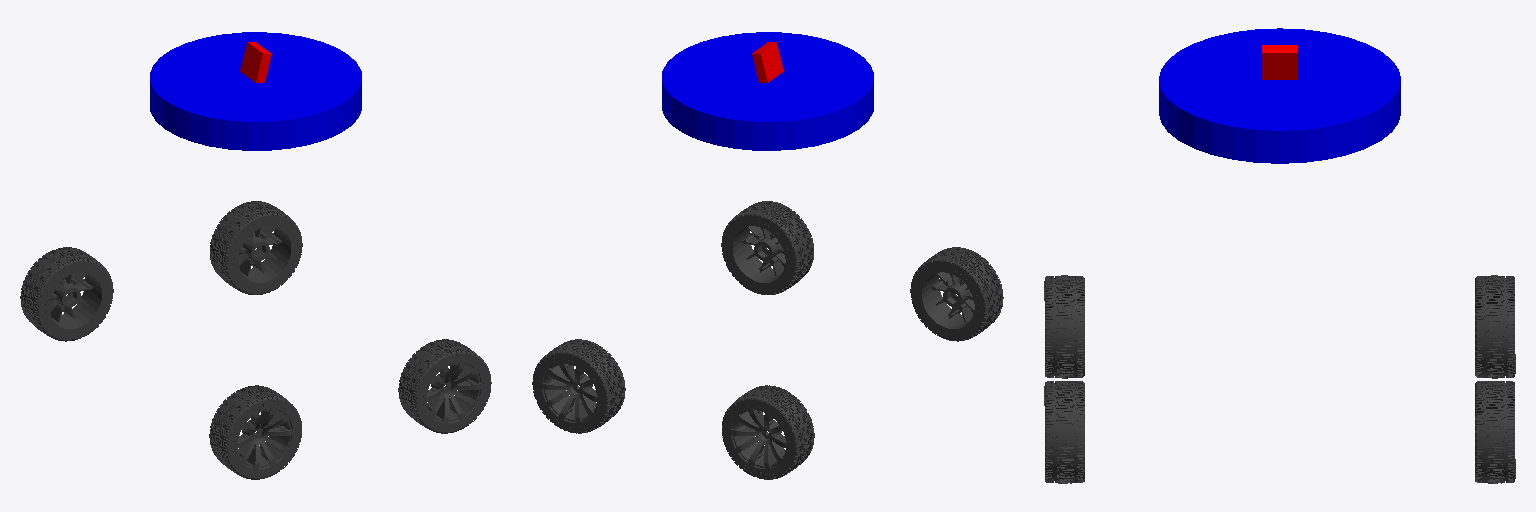
robot.urdf — pea_car:
<?xml version="1.0" encoding="utf-8"?>
<!-- This URDF was automatically created by SolidWorks to URDF Exporter! Originally created by [author] ([email redacted]) 
     Commit Version: 1.6.0-4-g7f85cfe  Build Version: 1.6.7995.38578
     For more information, please see http://wiki.ros.org/sw_urdf_exporter -->
<robot
  name="pea_car">
  
  <link name="base_footprint" />

  <link
    name="base_link">
    <inertial>
      <origin
        xyz="-0.00850900217466083 0.0141836619171774 -0.32641888833315"
        rpy="0 0 0" />
      <mass
        value="5.63759480853829" />
      <inertia
        ixx="0.00980887158915243"
        ixy="1.94119169503838E-05"
        ixz="0.000103361831282563"
        iyy="0.0217612218712177"
        iyz="0.000655342254090576"
        izz="0.0151940782982274" />
    </inertial>
    <visual>
      <origin
        xyz="0.01837 -0.4335 0.11452404"  
        rpy="0 0 0" />
      <geometry>
        <mesh
          filename="package://pea_car/meshes/base_link.STL" />
      </geometry>
      <material
        name="">
        <color
          rgba="0.752941176470588 0.752941176470588 0.752941176470588 1" />
      </material>
    </visual>
    <collision>
      <origin
        xyz="0.01837 -0.4335 0.11452404"
        rpy="0 0 0" />
      <geometry>
        <mesh
          filename="package://pea_car/meshes/base_link.STL" />
      </geometry>
    </collision>
  </link>
  <joint name="base_to_footprint" type="fixed">
    <parent link="base_footprint" />
    <child link="base_link" />
    <origin xyz="0 0 0" rpy="0 0 1.5708" />
  </joint>

  <link
    name="right1">
    <inertial>
      <origin
        xyz="4.38047024209354E-08 -0.000913846429348358 8.77279937688824E-06"
        rpy="0 0 0" />
      <mass
        value="0.0552841156378314" />
      <inertia
        ixx="3.71609617131184E-05"
        ixy="3.41059462062768E-11"
        ixz="-2.84685547633311E-11"
        iyy="6.18003473830655E-05"
        iyz="7.33619676437955E-09"
        izz="3.71463189873431E-05" />
    </inertial>
    <visual>
      <origin
        xyz="0 0 0"
        rpy="0 0 0" />
      <geometry>
        <mesh
          filename="package://pea_car/meshes/right1.STL" />
      </geometry>
      <material
        name="">
        <color
          rgba="0.298039215686275 0.298039215686275 0.298039215686275 1" />
      </material>
    </visual>
    <collision>
      <origin
        xyz="0 0 0"
        rpy="0 0 0" />
      <geometry>
        <mesh
          filename="package://pea_car/meshes/right1.STL" />
      </geometry>
    </collision>
    <gazebo>
        <material>Gazebo/Black</material>
        <mu>1.0</mu>       <!-- 横向摩擦系数 -->
        <mu2>1.0</mu2>     <!-- 纵向摩擦系数 -->
    </gazebo>
  </link>
  <joint
    name="base_r_wheel_joint"
    type="continuous">
    <origin
      xyz="-0.1774 0.10254 0.0421844"
      rpy="0 0.0029193 -1.5708" />
    <parent
      link="base_link" />
    <child
      link="right1" />
    <axis
      xyz="0 1 0" />
  </joint>
  <link
    name="right2">
    <inertial>
      <origin
        xyz="4.20321930039158E-08 -0.000913847481226499 8.77378064739753E-06"
        rpy="0 0 0" />
      <mass
        value="0.0552841192285863" />
      <inertia
        ixx="3.71609621815472E-05"
        ixy="3.30508816797067E-11"
        ixz="-2.74714526173878E-11"
        iyy="6.18003486545583E-05"
        iyz="7.33680540240222E-09"
        izz="3.71463210239034E-05" />
    </inertial>
    <visual>
      <origin
        xyz="0 0 0"
        rpy="0 0 0" />
      <geometry>
        <mesh
          filename="package://pea_car/meshes/right2.STL" />
      </geometry>
      <material
        name="">
        <color
          rgba="0.298039215686275 0.298039215686275 0.298039215686275 1" />
      </material>
    </visual>
    <collision>
      <origin
        xyz="0 0 0"
        rpy="0 0 0" />
      <geometry>
        <mesh
          filename="package://pea_car/meshes/right2.STL" />
      </geometry>
    </collision>
    <gazebo>
        <material>Gazebo/Black</material>
        <mu>1.0</mu>       <!-- 横向摩擦系数 -->
        <mu2>1.0</mu2>     <!-- 纵向摩擦系数 -->
        <kp>1000000.0</kp>
        <kd>100.0</kd>
        <minDepth>0.001</minDepth>
        <maxVel>1.0</maxVel>
    </gazebo>
  </link>
  <joint
    name="base_r_wheel_joint2"
    type="continuous">
    <origin
      xyz="-0.1774 -0.10246 0.0421844"
      rpy="0 0.0029193 -1.5708" />
    <parent
      link="base_link" />
    <child
      link="right2" />
    <axis
      xyz="0 1 0" />
  </joint>
  <link
    name="left1">
    <inertial>
      <origin
        xyz="4.30237453441507E-08 -0.000913847256190536 8.77025464920966E-06"
        rpy="0 0 0" />
      <mass
        value="0.0552841195828146" />
      <inertia
        ixx="3.71609606212003E-05"
        ixy="3.35662443428845E-11"
        ixz="-2.76283878029763E-11"
        iyy="6.18003489697355E-05"
        iyz="7.3346364056894E-09"
        izz="3.71463229548982E-05" />
    </inertial>
    <visual>
      <origin
        xyz="0 0 0"
        rpy="0 0 0" />
      <geometry>
        <mesh
          filename="package://pea_car/meshes/left1.STL" />
      </geometry>
      <material
        name="">
        <color
          rgba="0.298039215686275 0.298039215686275 0.298039215686275 1" />
      </material>
    </visual>
    <collision>
      <origin
        xyz="0 0 0"
        rpy="0 0 0" />
      <geometry>
        <mesh
          filename="package://pea_car/meshes/left1.STL" />
      </geometry>
    </collision>
    <gazebo>
        <material>Gazebo/Black</material>
        <mu>1.0</mu>       <!-- 横向摩擦系数 -->
        <mu2>1.0</mu2>     <!-- 纵向摩擦系数 -->
    </gazebo>
  </link>
  <joint
    name="base_l_wheel_joint"
    type="continuous">
    <origin
      xyz="0.17741 0.10254 0.0421844"
      rpy="-3.1416 -0.0029193 -1.5708" />
    <parent
      link="base_link" />
    <child
      link="left1" />
    <axis
      xyz="0 -1 0" />
  </joint>
  <link
    name="left2">
    <inertial>
      <origin
        xyz="4.19530674089508E-08 -0.000913847384547473 8.77307510695202E-06"
        rpy="0 0 0" />
      <mass
        value="0.0552841198251379" />
      <inertia
        ixx="3.71609623141704E-05"
        ixy="3.29715687959072E-11"
        ixz="-2.88139956947963E-11"
        iyy="6.18003492681589E-05"
        iyz="7.33619775085748E-09"
        izz="3.71463216046317E-05" />
    </inertial>
    <visual>
      <origin
        xyz="0 0 0"
        rpy="0 0 0" />
      <geometry>
        <mesh
          filename="package://pea_car/meshes/left2.STL" />
      </geometry>
      <material
        name="">
        <color
          rgba="0.298039215686275 0.298039215686275 0.298039215686275 1" />
      </material>
    </visual>
    <collision>
      <origin
        xyz="0 0 0"
        rpy="0 0 0" />
      <geometry>
        <mesh
          filename="package://pea_car/meshes/left2.STL" />
      </geometry>
    </collision>
    <gazebo>
        <material>Gazebo/Black</material>
        <mu>1.0</mu>       <!-- 横向摩擦系数 -->
        <mu2>1.0</mu2>     <!-- 纵向摩擦系数 -->
        <kp>1000000.0</kp>
        <kd>100.0</kd>
        <minDepth>0.001</minDepth>
        <maxVel>1.0</maxVel>
    </gazebo>
  </link>
  <joint
    name="base_l_wheel_joint2"
    type="continuous">
    <origin
      xyz="0.17741 -0.10246 0.0421844"
      rpy="-3.1416 -0.0029193 -1.5708" />
    <parent
      link="base_link" />
    <child
      link="left2" />
    <axis
      xyz="0 1 0" />
  </joint>
    <gazebo>
        <plugin name="diff_drive_controller" filename="libgazebo_ros_diff_drive.so">
            <rosDebugLevel>Debug</rosDebugLevel>
            <publishWheelTF>true</publishWheelTF>
            <robotNamespace>/</robotNamespace>
            <publishTf>1</publishTf>
            <publishWheelJointState>true</publishWheelJointState>
            <alwaysOn>true</alwaysOn>
            <updateRate>100.0</updateRate>
            <legacyMode>true</legacyMode>
            <leftJoint>base_l_wheel_joint</leftJoint> <!-- 左轮 -->
            <rightJoint>base_r_wheel_joint</rightJoint> <!-- 右轮 -->
            <wheelSeparation>0.357</wheelSeparation> <!-- 车轮间距 -->
            <wheelDiameter>0.085</wheelDiameter> <!-- 车轮直径 -->
            <broadcastTF>1</broadcastTF>
            <wheelTorque>30</wheelTorque>
            <wheelAcceleration>1.8</wheelAcceleration>
            <commandTopic>cmd_vel</commandTopic> <!-- 运动控制话题 -->
            <odometryFrame>odom</odometryFrame> 
            <odometryTopic>odom</odometryTopic> <!-- 里程计话题 -->
            <robotBaseFrame>base_footprint</robotBaseFrame> <!-- 根坐标系 -->
            <odometrySource>1</odometrySource>
            <publishOdomTF>true</publishOdomTF>
        </plugin>
    </gazebo>
    
   <link name="laser">
        <visual>
            <geometry>
                <cylinder radius="0.1" length="0.03" />
            </geometry>
            <material name="blue">
                <color rgba="0 0 1 1" />
            </material>
        </visual>
    </link>

    <!-- 连接雷达与基链接 -->
    <joint name="laser_joint" type="fixed">
        <parent link="base_link" />
        <child link="laser" />
        <origin xyz="0 0 0.3" rpy="0 0 0" /> <!-- 设置相对于基链接的位置 -->
    </joint>

    <gazebo reference="laser">
        <sensor type="ray" name="rplidar">
            <pose>0 0 0</pose> <!-- 雷达相对于雷达链接的位置 -->
            <visualize>true</visualize>
            <update_rate>5.5</update_rate>
            <ray>
                <scan>
                    <horizontal>
                        <samples>360</samples>
                        <resolution>1</resolution>
                        <min_angle>-3.14159</min_angle>
                        <max_angle>3.14159</max_angle>
                    </horizontal>
                </scan>
                <range>
                    <min>0.10</min>
                    <max>30.0</max>
                    <resolution>0.01</resolution>
                </range>
                <noise>
                    <type>gaussian</type>
                    <mean>0.0</mean>
                    <stddev>0.01</stddev>
                </noise>
            </ray>
            <plugin name="gazebo_rplidar" filename="libgazebo_ros_laser.so">
                <topicName>/scan</topicName>
                <frameName>laser</frameName> <!-- 确保这个名称与TF树中的名称一致 -->
            </plugin>
        </sensor>
    </gazebo>
          <!-- 相机链接 -->
  <link name="camera">
    <visual>
        <geometry>
            <box size="0.01 0.03 0.03" /> <!-- 你可以根据需要调整相机的尺寸 -->
        </geometry>
        <material name="red">
            <color rgba="1 0 0 1" /> <!-- 设置相机颜色为红色 -->
        </material>
    </visual>
  </link>
  <!-- 连接相机与雷达 -->
  <joint name="camera_joint" type="fixed">
    <parent link="laser" />
    <child link="camera" />
    <origin xyz="0 0 0.03" rpy="0 0.2618 -1.5708" /> <!-- 设置相对于雷达的位置 -->
  </joint>
  <!-- Gazebo相机传感器配置 -->
  <gazebo reference="camera">
    <sensor type="camera" name="camera_sensor">
        <camera>
            <horizontal_fov>1.57</horizontal_fov> <!-- 水平视场 -->
            <image>
                <width>640</width> <!-- 图像宽度 -->
                <height>480</height> <!-- 图像高度 -->
                <format>R8G8B8</format> <!-- 图像格式 -->
            </image>
            <clip>
                <near>0.1</near> <!-- 近裁剪面 -->
                <far>100.0</far> <!-- 远裁剪面 -->
            </clip>
        </camera>
        <plugin name="camera_plugin" filename="libgazebo_ros_camera.so">
            <topicName>/camera/image_raw</topicName> <!-- 相机图像话题 -->
            <frameName>camera</frameName> <!-- 确保这个名称与TF树中的名称一致 -->
        </plugin>
    </sensor>
  </gazebo>
</robot>

--- Facts derived from the render (not from the file) ---
3 views of the same robot in one strip: view 1: azimuth 30°, elevation 25°; view 2: azimuth 150°, elevation 25°; view 3: azimuth 270°, elevation 25° (orthographic).
Model pea_car with 8 links and 7 joints (4 continuous, 3 fixed), rooted at base_footprint, posed all joints at 0.
Visible links, largest first — view 1: laser, right2, left1, right1, left2, camera; view 2: laser, left2, left1, right1, right2, camera; view 3: laser, left1, right1, right2, left2, camera.
Boxes of the visible links, x1=… form: laser: x1=150, y1=32, x2=361, y2=150; right2: x1=398, y1=339, x2=491, y2=433; left1: x1=20, y1=247, x2=113, y2=341; right1: x1=209, y1=385, x2=301, y2=479; left2: x1=210, y1=201, x2=302, y2=294; camera: x1=240, y1=42, x2=271, y2=82; laser: x1=662, y1=32, x2=873, y2=150; left2: x1=532, y1=339, x2=625, y2=433; left1: x1=722, y1=385, x2=814, y2=479; right1: x1=910, y1=247, x2=1003, y2=341; right2: x1=721, y1=201, x2=813, y2=294; camera: x1=752, y1=42, x2=783, y2=82; laser: x1=1159, y1=28, x2=1400, y2=163; left1: x1=1475, y1=275, x2=1515, y2=378; right1: x1=1044, y1=275, x2=1084, y2=378; right2: x1=1044, y1=381, x2=1084, y2=483; left2: x1=1475, y1=381, x2=1515, y2=483; camera: x1=1262, y1=45, x2=1297, y2=79.
Size in the robot's own frame: 0.29 by 0.3883 by 0.3461 metres.
4 mesh visuals loaded from 5 distinct referenced files (4 binary STL); not drawn: 1 (reference not matched to a file when rendering).
